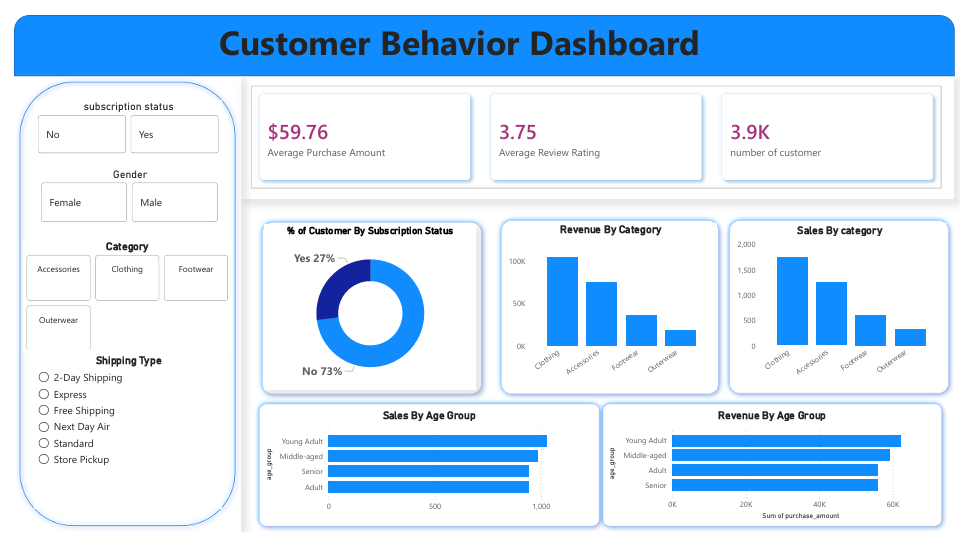

What the dashboard file says about the page in this screenshot:
{"tool":"powerbi","page":{"name":"Page 1","canvas":[1500,820],"ordinal":0},"visuals":[{"type":"cardVisual","fields":{"Data":["public customer.Average Purchase Amount","public customer.Average Review Rating","public customer.number of customer"]},"box":[359.2,95.3,1132,197.9],"z":0},{"type":"shape","box":[0,0,1491.7,96.7],"z":1000},{"type":"textbox","box":[0,0,1413.3,120],"z":2000},{"type":"shape","box":[385,320,365,290],"z":3000},{"type":"donutChart","title":"% of Customer By Subscription Status","fields":{"Category":["public customer.subscription_status"],"Y":["CountNonNull(public customer.customer_id)"]},"box":[396.7,333.3,336.7,261.7],"z":4000},{"type":"shape","box":[763.9,316.7,362.2,293.3],"z":5000},{"type":"shape","box":[1126.1,316.7,365.1,291.8],"z":6000},{"type":"clusteredColumnChart","title":"Revenue By Category","fields":{"Y":["Sum(public customer.purchase_amount)"],"Category":["public customer.category"]},"box":[778.6,329.9,335.8,265.4],"z":7000},{"type":"clusteredColumnChart","title":"Sales By category","fields":{"Y":["CountNonNull(public customer.purchase_amount)"],"Category":["public customer.category"]},"box":[1142.2,331.4,334.3,263.9],"z":8000},{"type":"shape","box":[0,96.7,360,723.3],"z":9000},{"type":"advancedSlicerVisual","title":"subscription status","fields":{"Values":["public customer.subscription_status"]},"box":[33.3,135,296.7,90],"z":10000},{"type":"advancedSlicerVisual","title":"Gender","fields":{"Values":["public customer.gender"]},"box":[38.3,241.7,291.7,91.7],"z":11000},{"type":"advancedSlicerVisual","title":"Category","fields":{"Values":["public customer.category"]},"box":[15,356.7,330,181.7],"z":12000},{"type":"listSlicer","title":"Shipping Type","fields":{"Values":["public customer.shipping_type"]},"box":[33.3,538.3,296.7,245],"z":13000},{"type":"shape","box":[380,608.3,556.7,211.7],"z":15000},{"type":"shape","box":[925,608.3,555,211.7],"z":16000},{"type":"clusteredBarChart","title":"Revenue By Age Group","fields":{"Y":["Sum(public customer.purchase_amount)"],"Category":["public customer.age_group"]},"box":[938.3,625,528.3,180],"z":16500},{"type":"clusteredBarChart","title":"Sales By Age Group","fields":{"Category":["public customer.age_group"],"Y":["CountNonNull(public customer.customer_id)"]},"box":[393.3,625,530,173.3],"z":17000}]}

Visuals, with their boxes in screenshot pixels (x1, y1, x2, y2), scaled from the page's 1500x820 canvas onto the 970x546 screenshot:
cardVisual - public customer.Average Purchase Amount x public customer.Average Review Rating: bbox=[232, 63, 964, 195]
shape: bbox=[0, 0, 965, 64]
textbox: bbox=[0, 0, 914, 80]
shape: bbox=[249, 213, 485, 406]
"% of Customer By Subscription Status" donutChart: bbox=[257, 222, 474, 396]
shape: bbox=[494, 211, 728, 406]
shape: bbox=[728, 211, 964, 405]
"Revenue By Category" clusteredColumnChart: bbox=[503, 220, 721, 396]
"Sales By category" clusteredColumnChart: bbox=[739, 221, 955, 396]
shape: bbox=[0, 64, 233, 545]
"subscription status" advancedSlicerVisual: bbox=[22, 90, 213, 150]
"Gender" advancedSlicerVisual: bbox=[25, 161, 213, 222]
"Category" advancedSlicerVisual: bbox=[10, 238, 223, 358]
"Shipping Type" listSlicer: bbox=[22, 358, 213, 522]
shape: bbox=[246, 405, 606, 545]
shape: bbox=[598, 405, 957, 545]
"Revenue By Age Group" clusteredBarChart: bbox=[607, 416, 948, 536]
"Sales By Age Group" clusteredBarChart: bbox=[254, 416, 597, 532]
